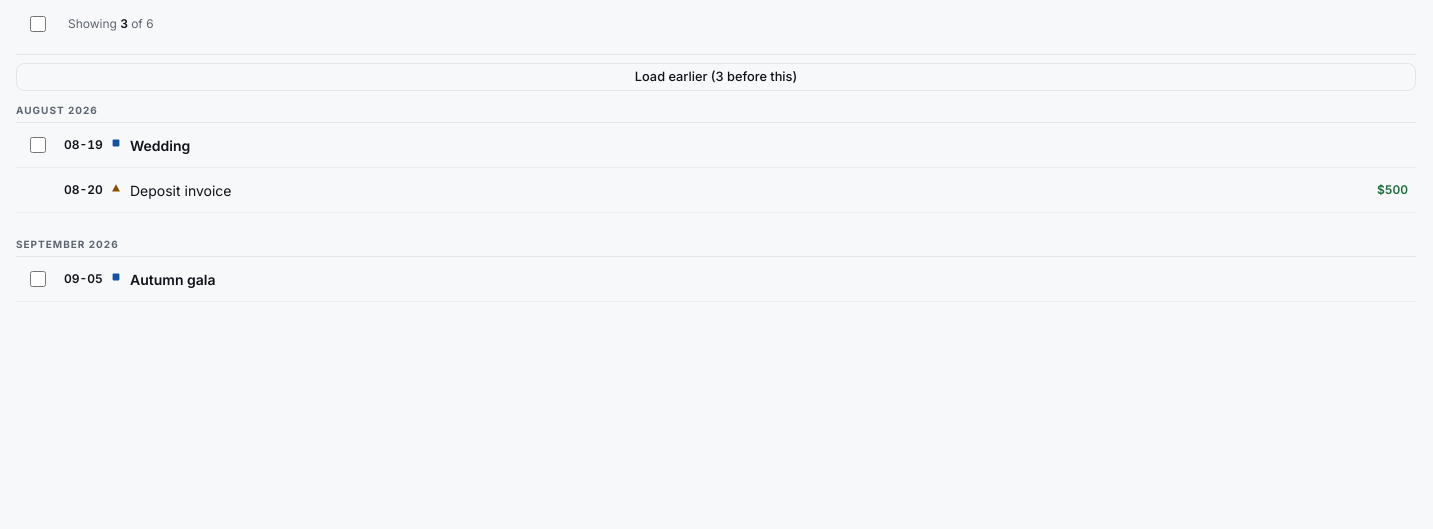
Scenario: AgendaView — anchoring › keeps history reachable behind an explicit Load earlier
Click the button "Load earlier (3 before this)" at point(716, 77), box [16,63,1416,91]
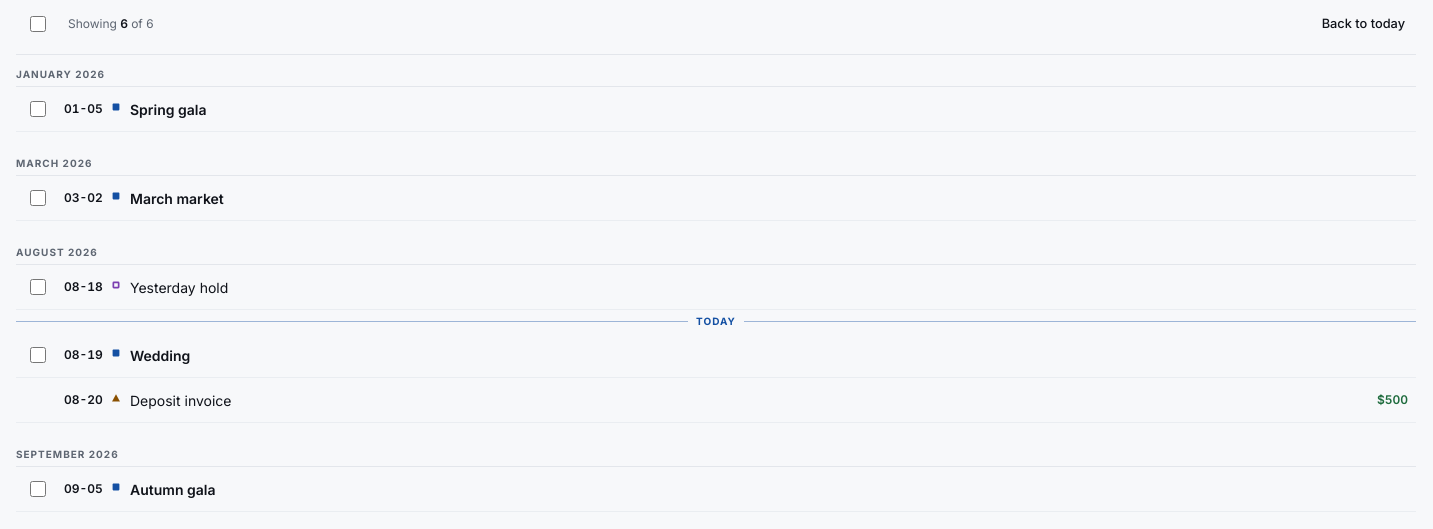
Check: the link "Wedding" is shown, box [130,347,190,364]
Check: the link "Spring gala" is shown, box [130,101,206,118]
